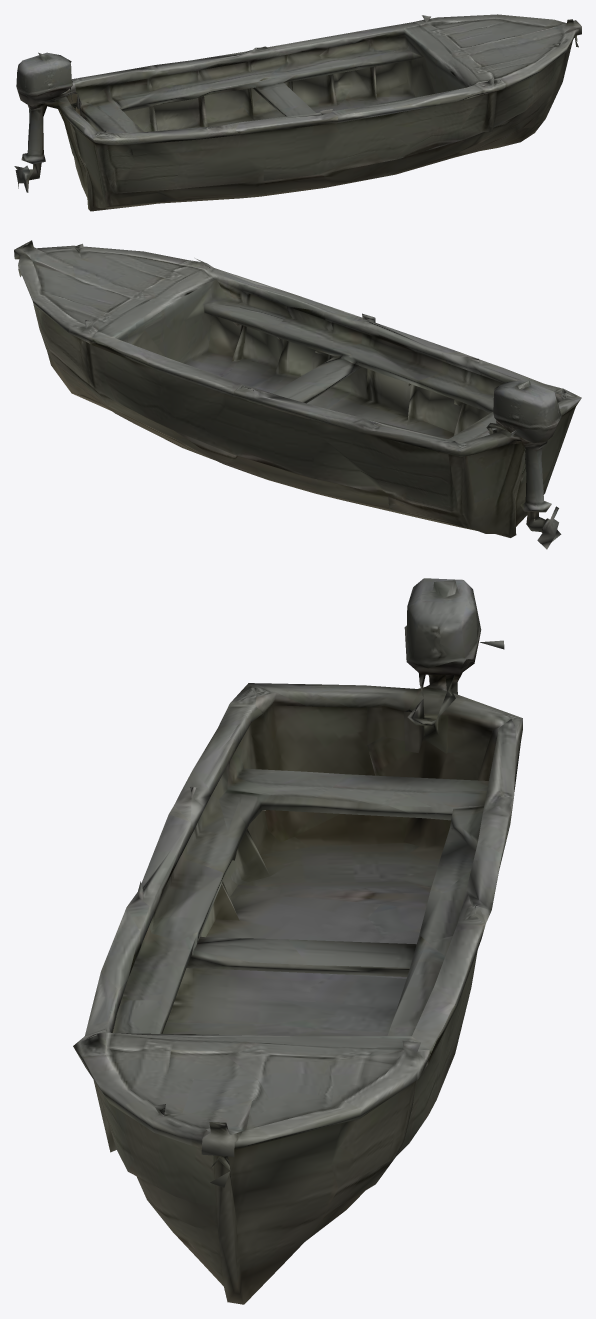
The model's file is prop_assault_boat.glb.
The picture shows the model from 3 angles, top to bottom: view 1: azimuth 30°, elevation 25°; view 2: azimuth 150°, elevation 25°; view 3: azimuth 270°, elevation 25°; orthographic projection. The views are drawn at different scales.
Visible parts, largest first — view 1: tripo_node_3881d3a6-81a9-4e9d-8602-09985c21681d; view 2: tripo_node_3881d3a6-81a9-4e9d-8602-09985c21681d; view 3: tripo_node_3881d3a6-81a9-4e9d-8602-09985c21681d.
Part boxes in pixels (bbox=[...]): tripo_node_3881d3a6-81a9-4e9d-8602-09985c21681d: bbox=[14, 14, 581, 211]; tripo_node_3881d3a6-81a9-4e9d-8602-09985c21681d: bbox=[14, 240, 581, 549]; tripo_node_3881d3a6-81a9-4e9d-8602-09985c21681d: bbox=[73, 578, 522, 1304].
Bounding box in the file's own units: 1 × 0.2961 × 0.3848.
1 material, 1 textured.
